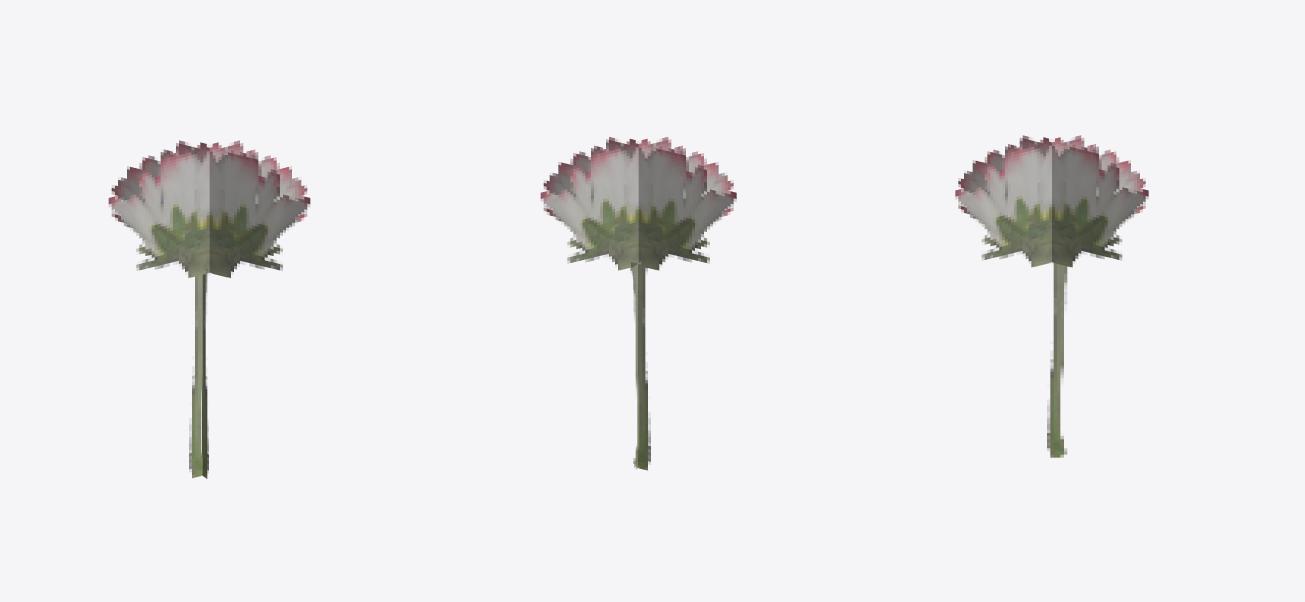
File: Flower.glb
3 renders of one model, left to right at view 1: azimuth 30°, elevation 25°; view 2: azimuth 150°, elevation 25°; view 3: azimuth 270°, elevation 25°, orthographic. The views are drawn at different scales.
Visible parts, largest first — view 1: Plane.004; view 2: Plane.004; view 3: Plane.004.
Boxes of the visible parts, <box> form: Plane.004: <box>108,140,310,478</box>; Plane.004: <box>540,137,736,470</box>; Plane.004: <box>955,135,1148,457</box>.
Bounding box in the file's own units: 1.02 × 0.9861 × 1.
1 material, 1 textured.
